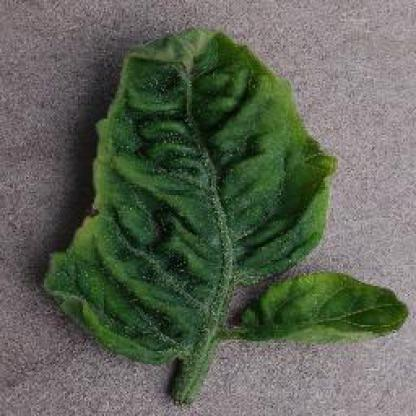bad leaf: (64, 179, 160, 254), (149, 47, 254, 114)
